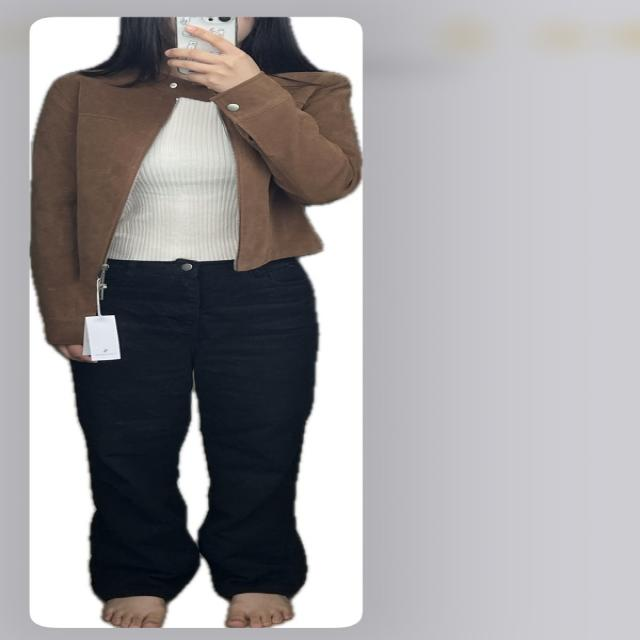denimpants: (72, 255, 316, 601)
jacket: (38, 48, 360, 350)
